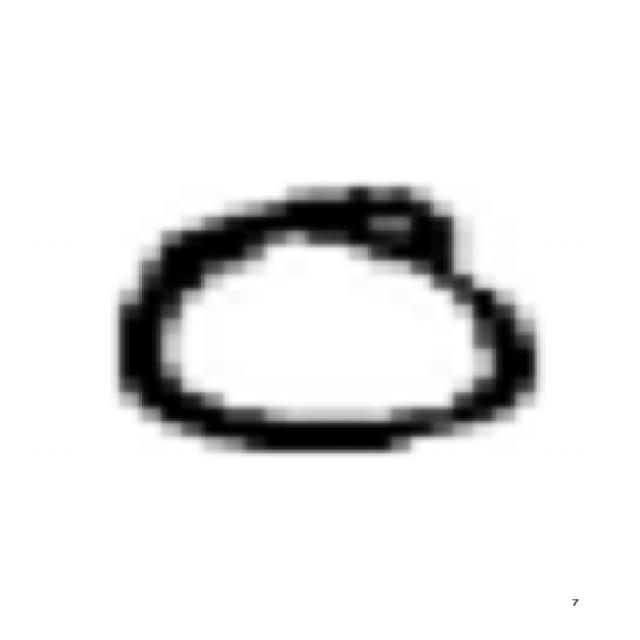5 -five-: (105, 173, 548, 463)
